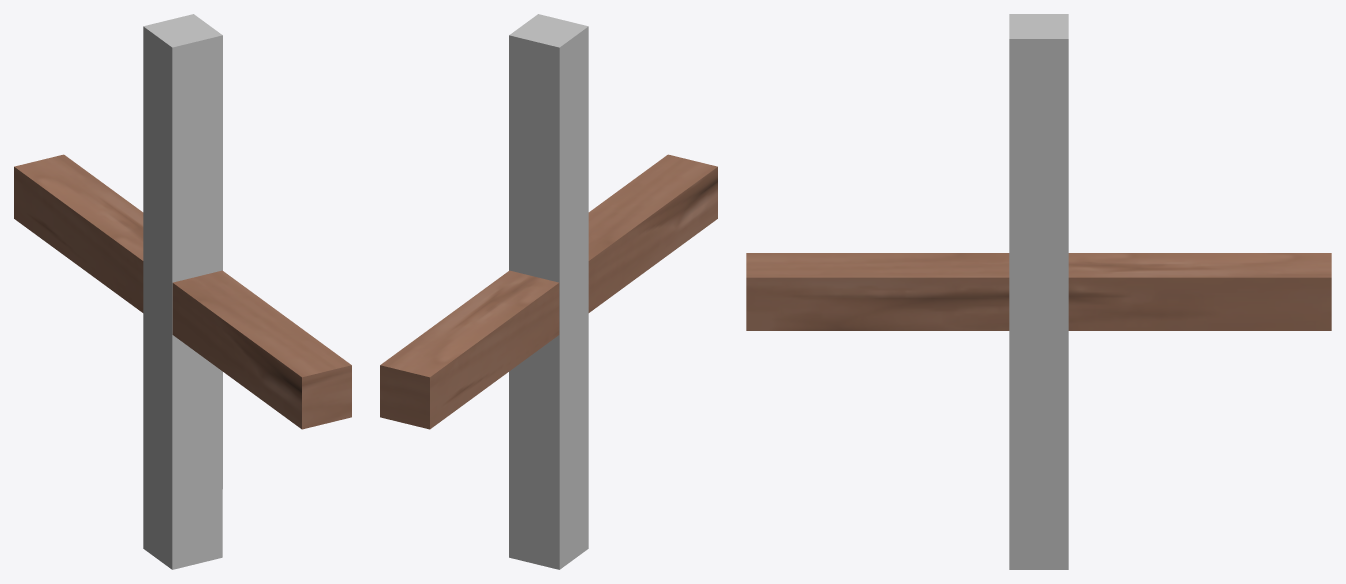
File: SM_wooden_beam_07.fbx
3 renders of one model, left to right at view 1: azimuth 30°, elevation 25°; view 2: azimuth 150°, elevation 25°; view 3: azimuth 270°, elevation 25°, orthographic.
Parts seen in each view (by area): view 1: SM_wooden_beam_07_ConvexHulls, SM_wooden_beam_07; view 2: SM_wooden_beam_07_ConvexHulls, SM_wooden_beam_07; view 3: SM_wooden_beam_07, SM_wooden_beam_07_ConvexHulls.
Boxes of the visible parts, box(x1,y1,x2,y2) form: SM_wooden_beam_07_ConvexHulls: box(143, 14, 222, 569); SM_wooden_beam_07: box(14, 154, 351, 429); SM_wooden_beam_07_ConvexHulls: box(509, 14, 588, 569); SM_wooden_beam_07: box(380, 154, 717, 429); SM_wooden_beam_07: box(746, 253, 1331, 330); SM_wooden_beam_07_ConvexHulls: box(1009, 14, 1068, 569).
Size of the model in its own units: 20.24 by 200 by 200.
